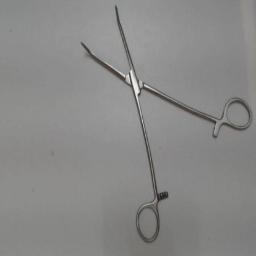Lahey Forceps: (76, 1, 254, 247)
